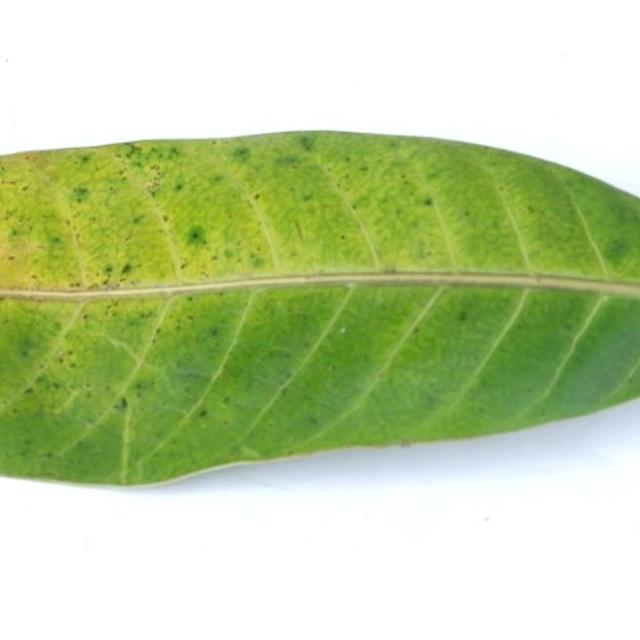Mango: (0, 278, 639, 484), (0, 132, 639, 289)
Powdery_Mildew: (4, 311, 68, 391), (602, 233, 629, 265), (182, 222, 207, 249), (123, 144, 146, 161), (45, 234, 65, 250), (231, 146, 251, 161), (298, 135, 315, 151), (73, 186, 89, 200), (145, 182, 160, 196), (222, 248, 234, 259), (120, 263, 132, 274), (457, 310, 469, 321), (115, 401, 127, 411), (131, 214, 142, 224), (301, 193, 312, 203), (209, 327, 220, 337), (309, 415, 320, 425), (103, 265, 114, 274), (422, 197, 433, 206), (133, 381, 144, 390), (174, 183, 184, 192), (222, 395, 231, 405), (153, 327, 161, 338), (199, 409, 208, 418), (69, 281, 80, 288), (527, 205, 536, 213), (44, 451, 53, 459), (161, 214, 169, 222), (360, 165, 369, 172), (180, 261, 187, 270), (425, 250, 433, 257), (254, 194, 261, 201), (118, 169, 125, 176), (498, 185, 505, 192), (339, 234, 346, 240), (21, 185, 28, 191)
